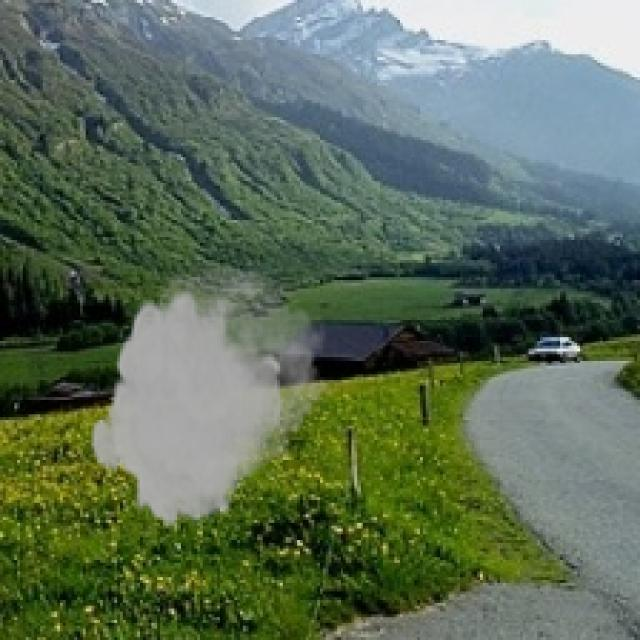smoke: (89, 268, 334, 532)
